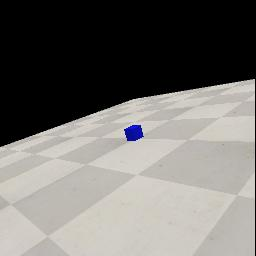box: (124, 125, 144, 141)
